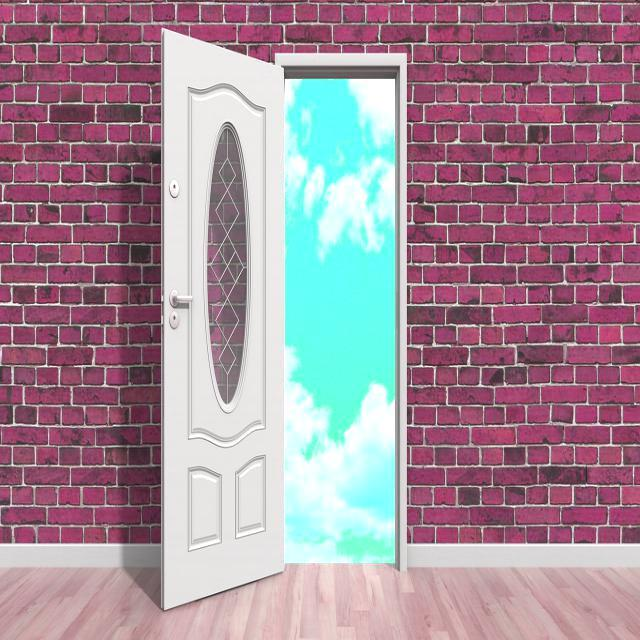Door: (158, 27, 285, 610)
